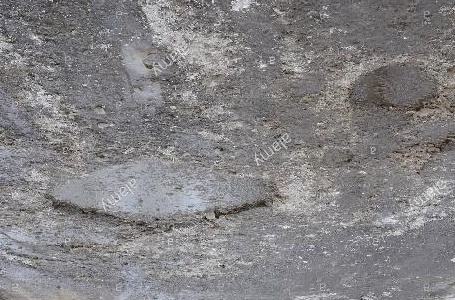pothole: (42, 156, 286, 238), (349, 61, 445, 115), (112, 42, 181, 112)
